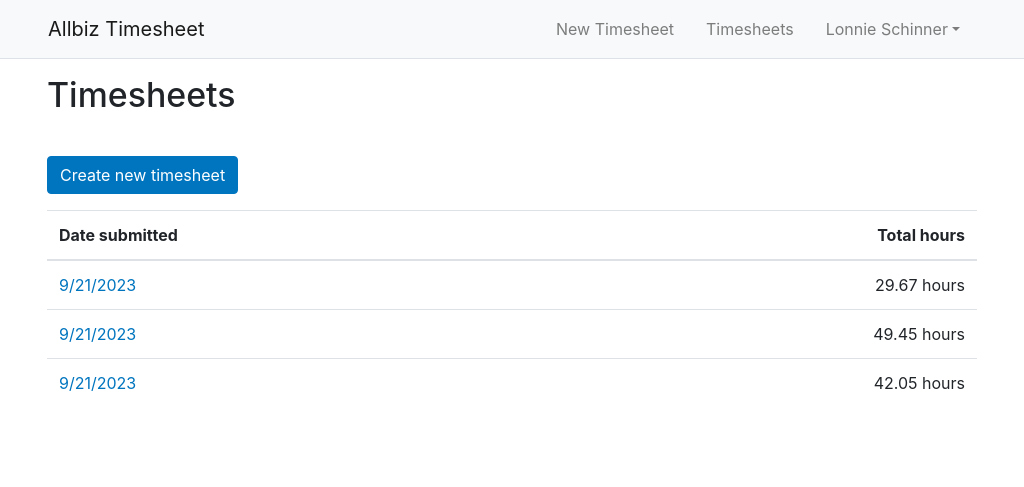
Scenario: authenticated user › logs out
Expected: the heading reads "Timesheets", [47,74,236,115]
Click the button at (887, 29), box [826,19,948,39]
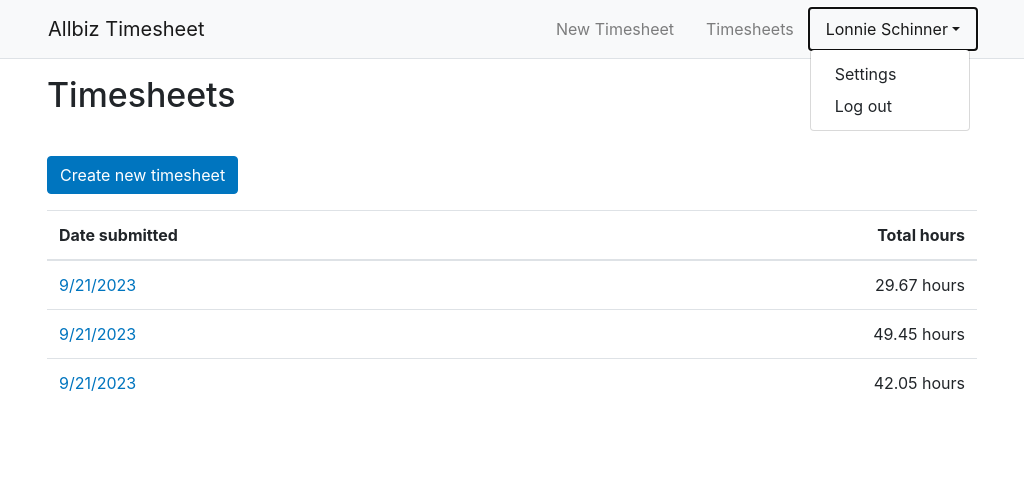
Click the button with test id "logout-button" at (863, 106), box [835,96,892,116]
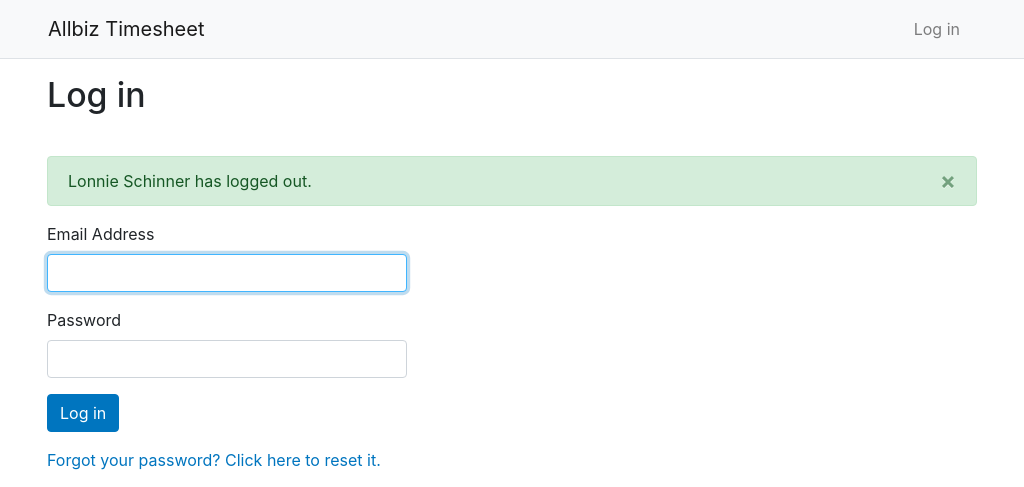
Expected: the heading reads "Log in", [47,74,146,115]
